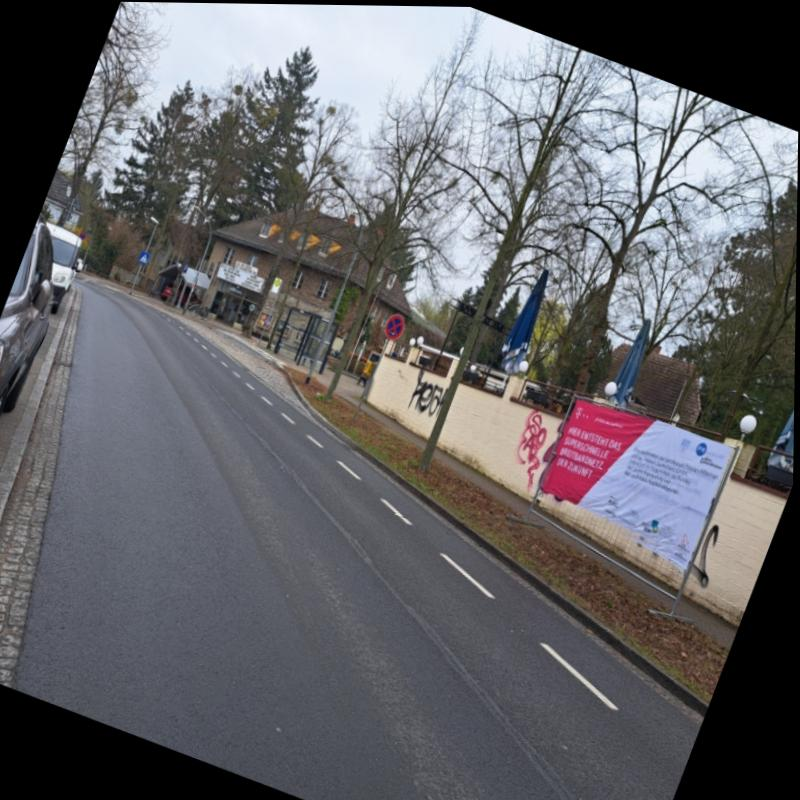Banner: (538, 395, 736, 557)
